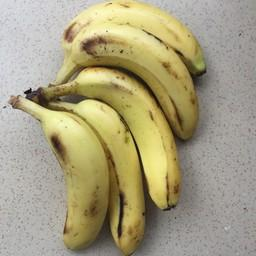Banana Ripe: (57, 62, 199, 256), (48, 20, 207, 168), (10, 95, 117, 256), (56, 0, 228, 85)
